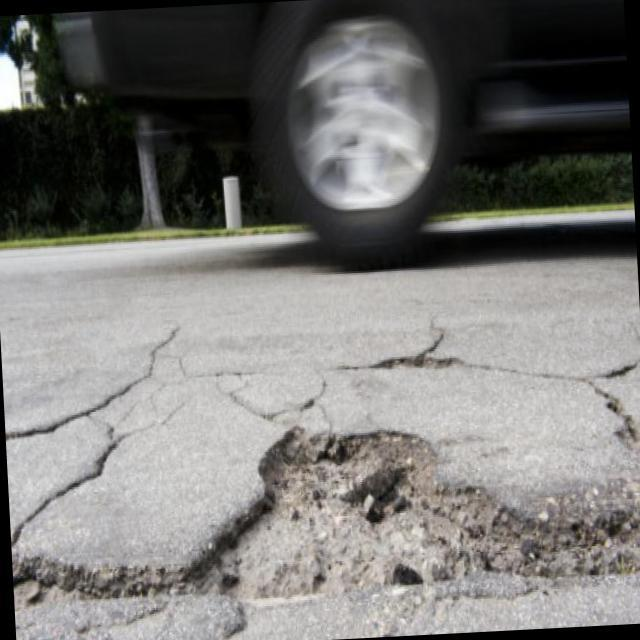Pothole: (189, 428, 640, 600)
